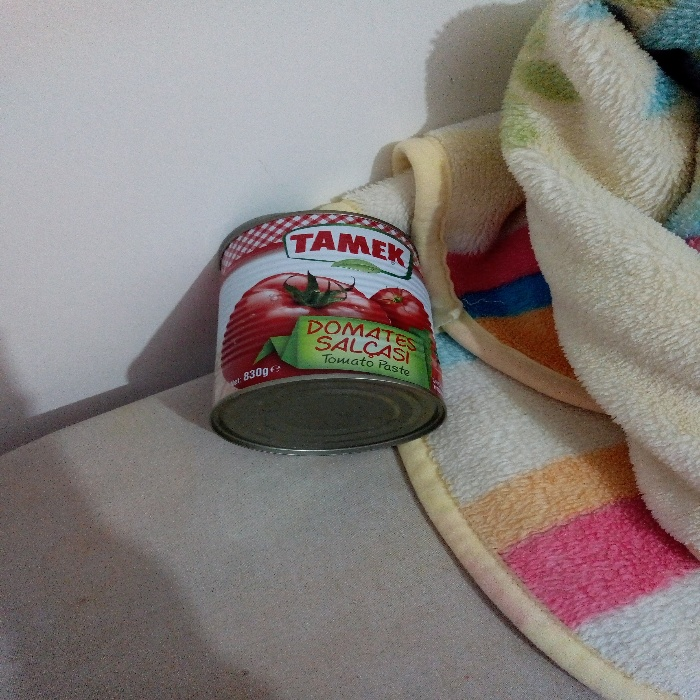salca: (206, 185, 450, 484)
